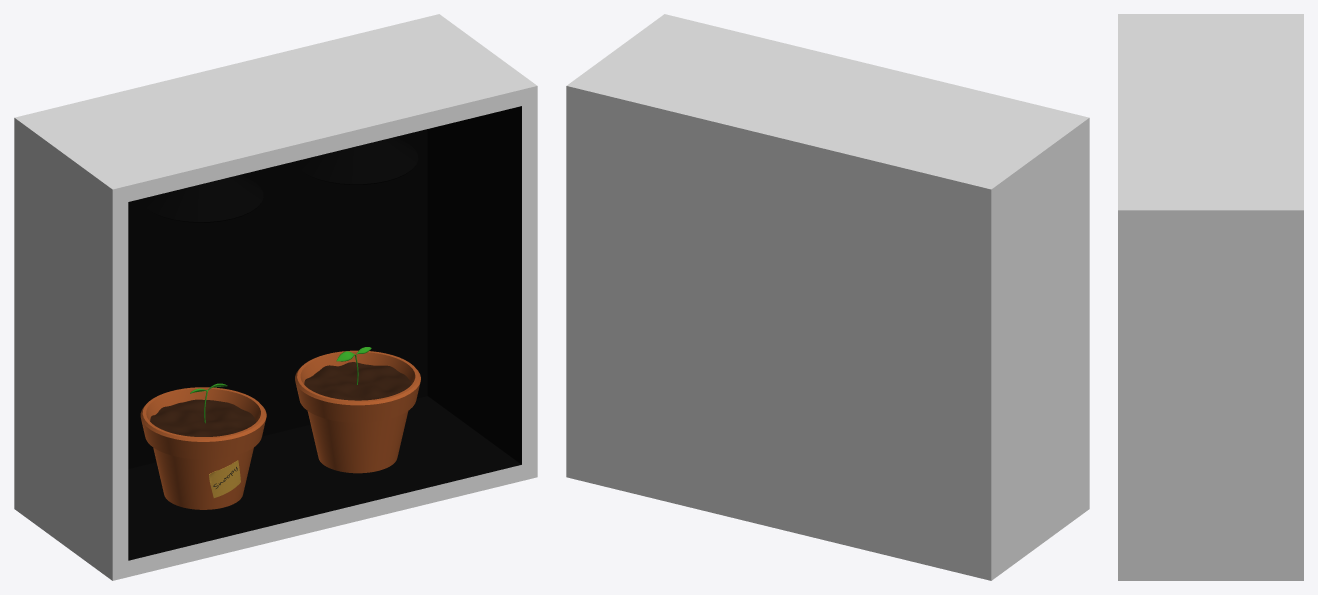
File: GrowBox.fbx
The picture shows the model from 3 angles, left to right: view 1: azimuth 30°, elevation 25°; view 2: azimuth 150°, elevation 25°; view 3: azimuth 270°, elevation 25°; orthographic projection. The views are drawn at different scales.
Parts seen in each view (by area): view 1: OuterBody, backside, rightside, bottomside, pot.002, pot.001, Lamp, Lamp.001, soil.002, soil.001, potsticker.001; view 2: OuterBody; view 3: OuterBody.
Part boxes in pixels (x1,y1,x2,y2): OuterBody: (14,14,537,580); backside: (128,129,427,468); rightside: (427,106,521,464); bottomside: (128,396,521,560); pot.002: (295,350,420,473); pot.001: (140,387,266,509); Lamp: (139,174,263,222); Lamp.001: (294,137,418,184); soil.002: (304,362,411,400); soil.001: (150,399,256,436); potsticker.001: (209,460,240,497); OuterBody: (566,14,1089,580); OuterBody: (1118,14,1303,580).
Size of the model in its own units: 1250 by 1100 by 500.
